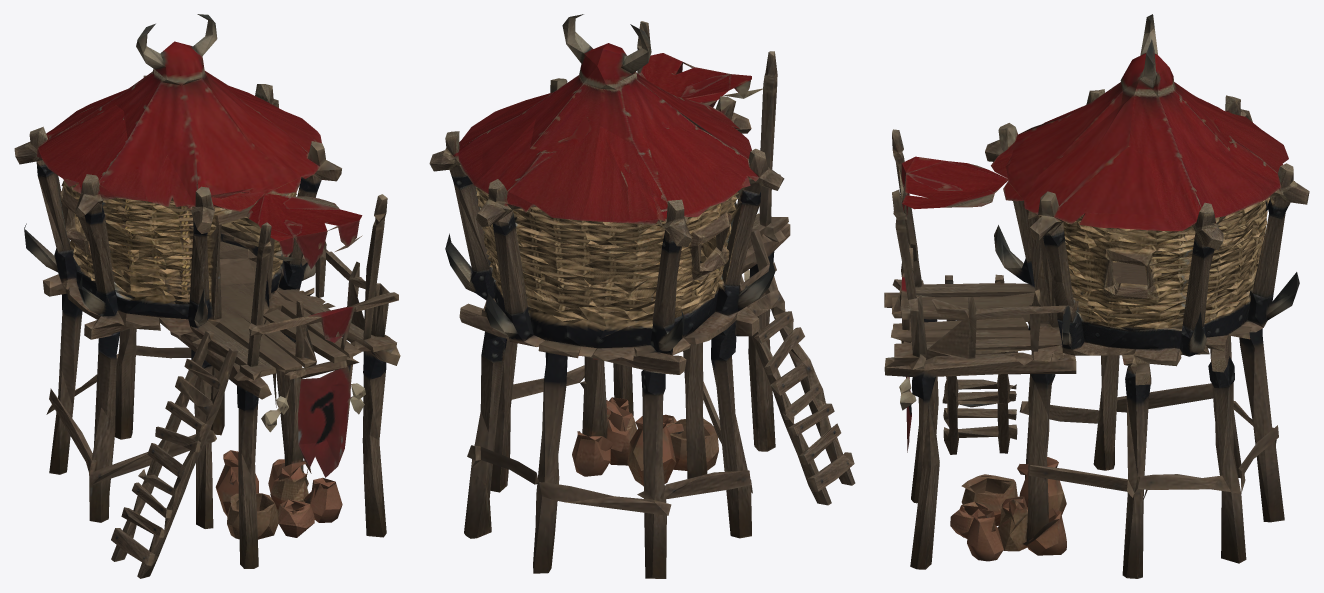
File: stilt_hut.glb
3 renders of one model, left to right at view 1: azimuth 30°, elevation 25°; view 2: azimuth 150°, elevation 25°; view 3: azimuth 270°, elevation 25°, orthographic. The views are drawn at different scales.
Parts seen in each view (by area): view 1: stilt_hut; view 2: stilt_hut; view 3: stilt_hut.
Part boxes in pixels (bbox=[...]): stilt_hut: bbox=[14, 14, 400, 578]; stilt_hut: bbox=[429, 14, 855, 578]; stilt_hut: bbox=[884, 14, 1309, 578].
Bounding box in the file's own units: 4.19 × 7 × 5.49.
Materials: 1 (1 with a texture image).
